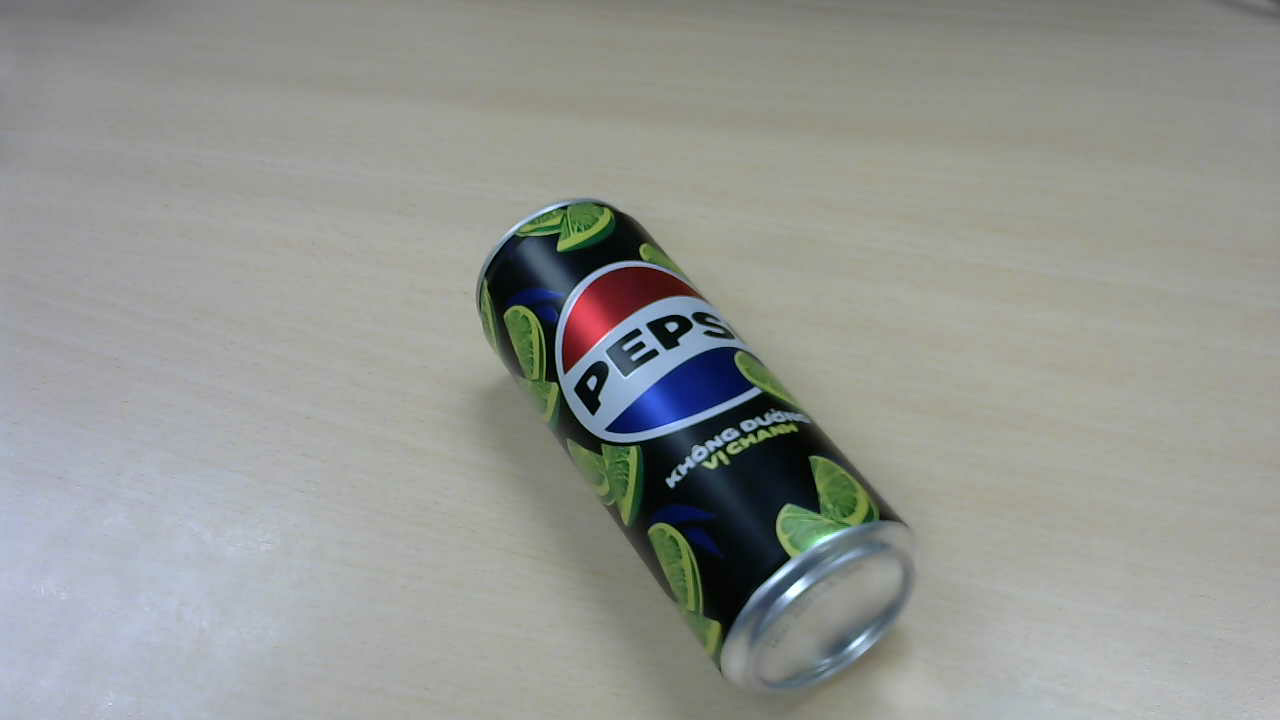Pepsi: (462, 190, 938, 700)
